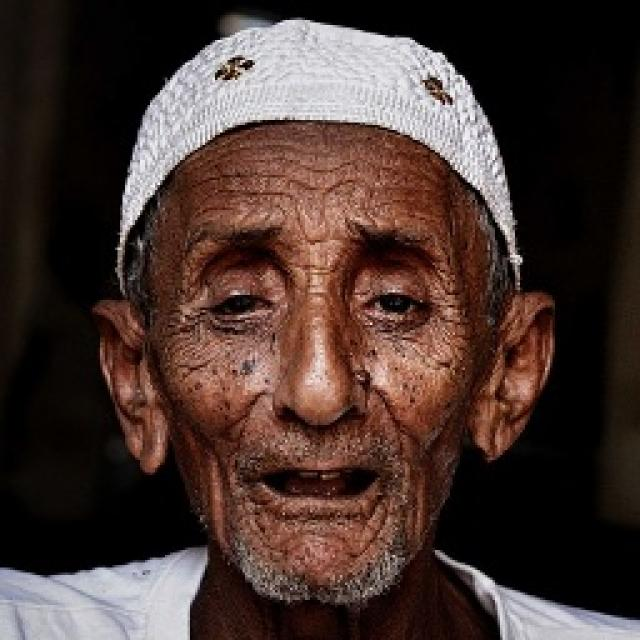no-glasses: (176, 266, 464, 344)
